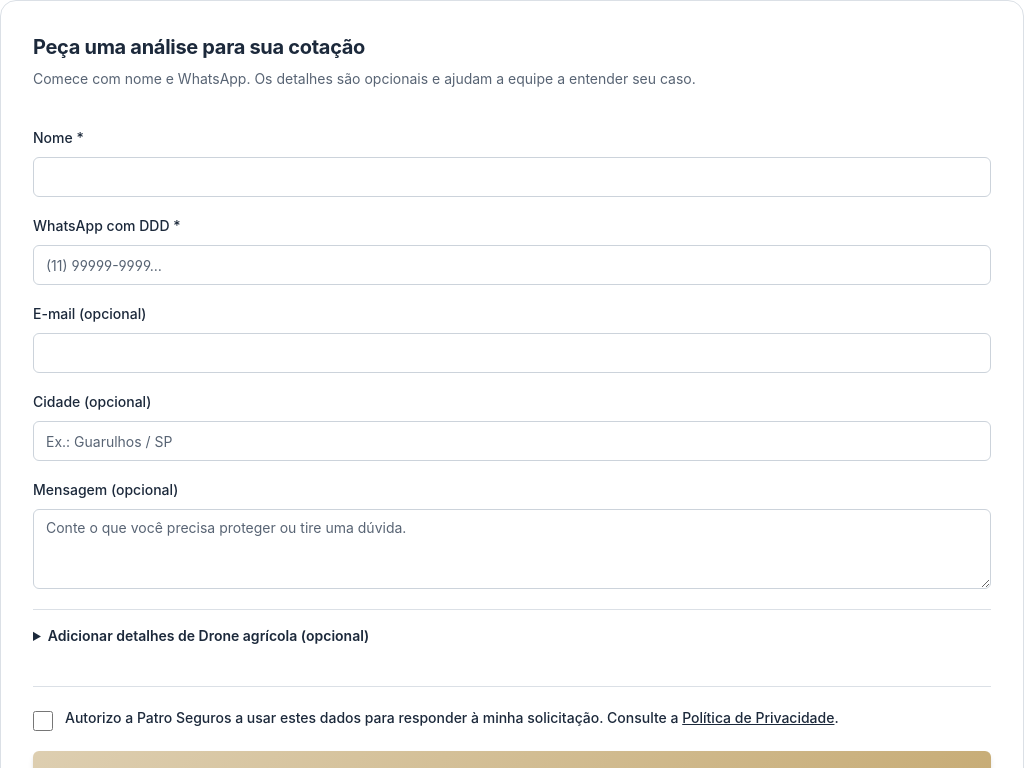
Test: Captação por produto › valida o e-mail opcional antes do envio
The width and height of the screenshot is (1024, 768).
Type "Maria Teste" into the field labelled "Nome *" at (512, 177), box [33,157,991,197]
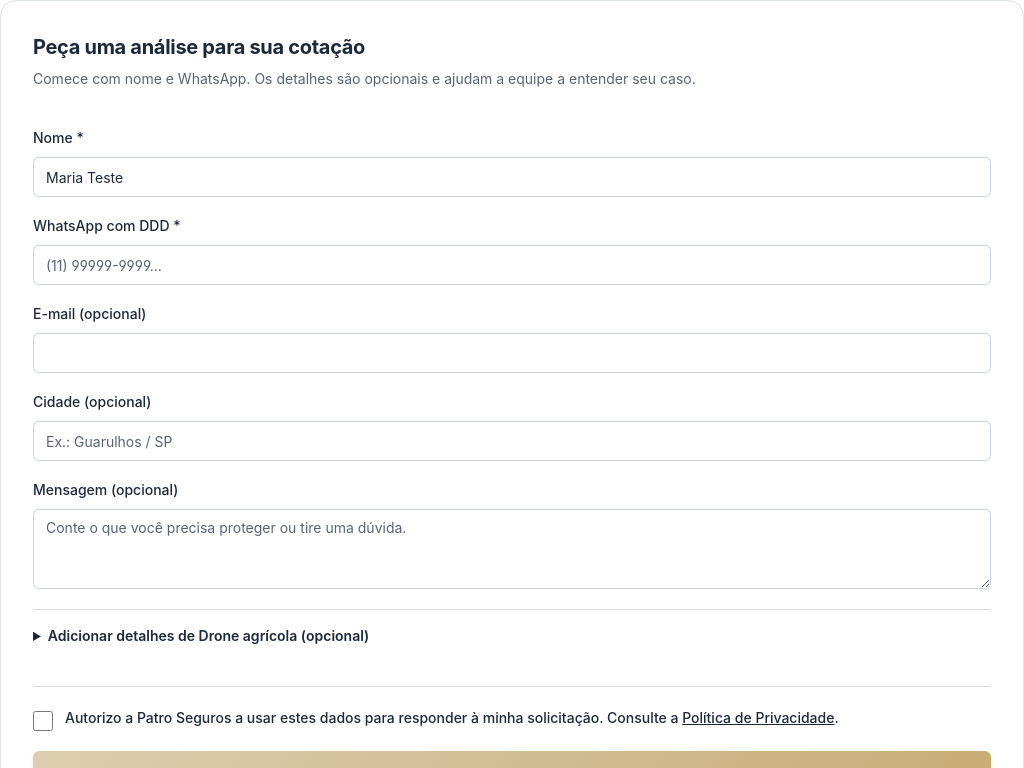
Type "11999999999" into the field labelled "WhatsApp com DDD *" at (512, 265), box [33,245,991,285]
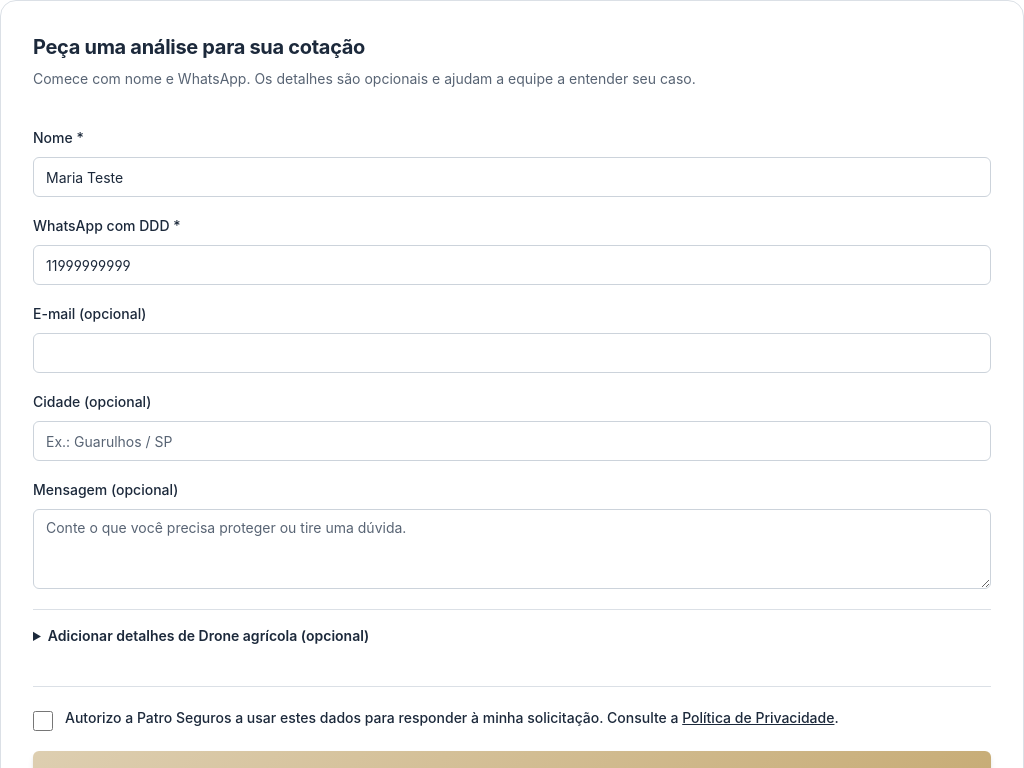
Click the checkbox at (43, 721), box [33,711,53,731]
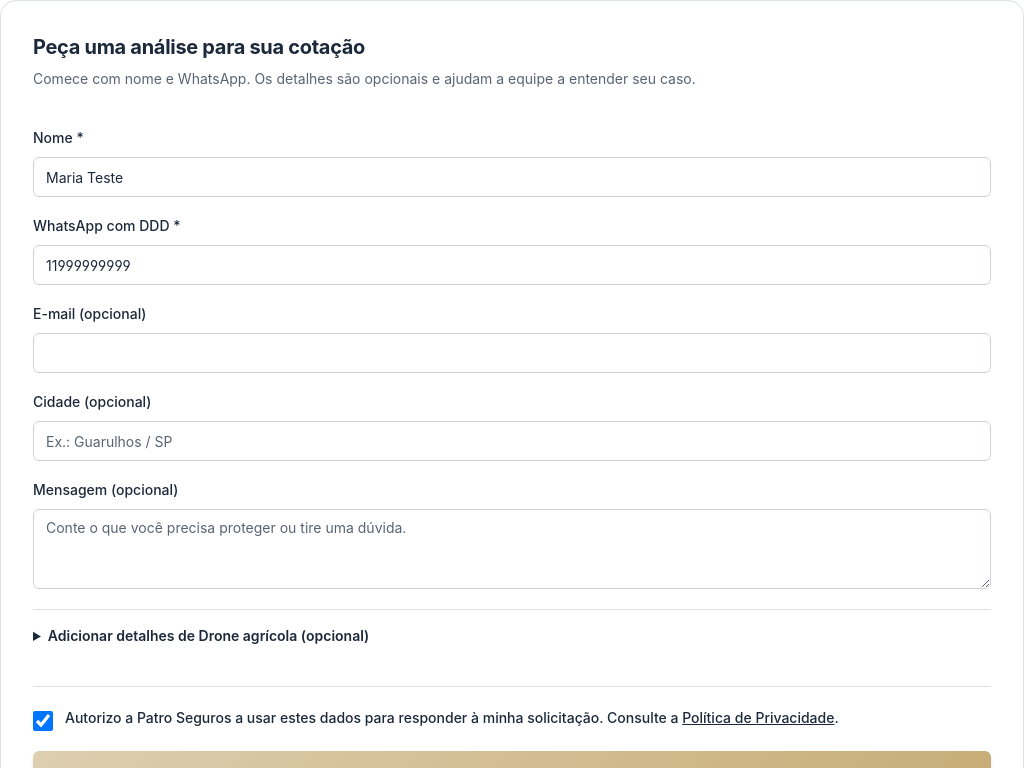
Type "email-invalido" into the field labelled "E-mail (opcional)" at (512, 353), box [33,333,991,373]
(page scrolled)
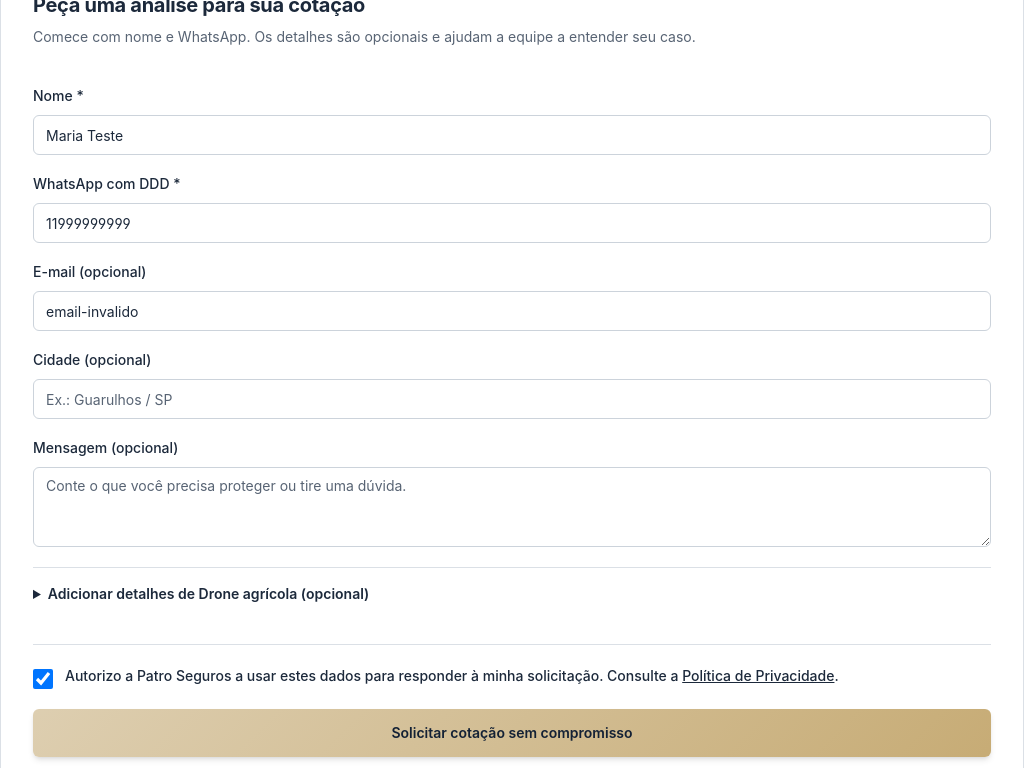
Submit the form
(page scrolled)
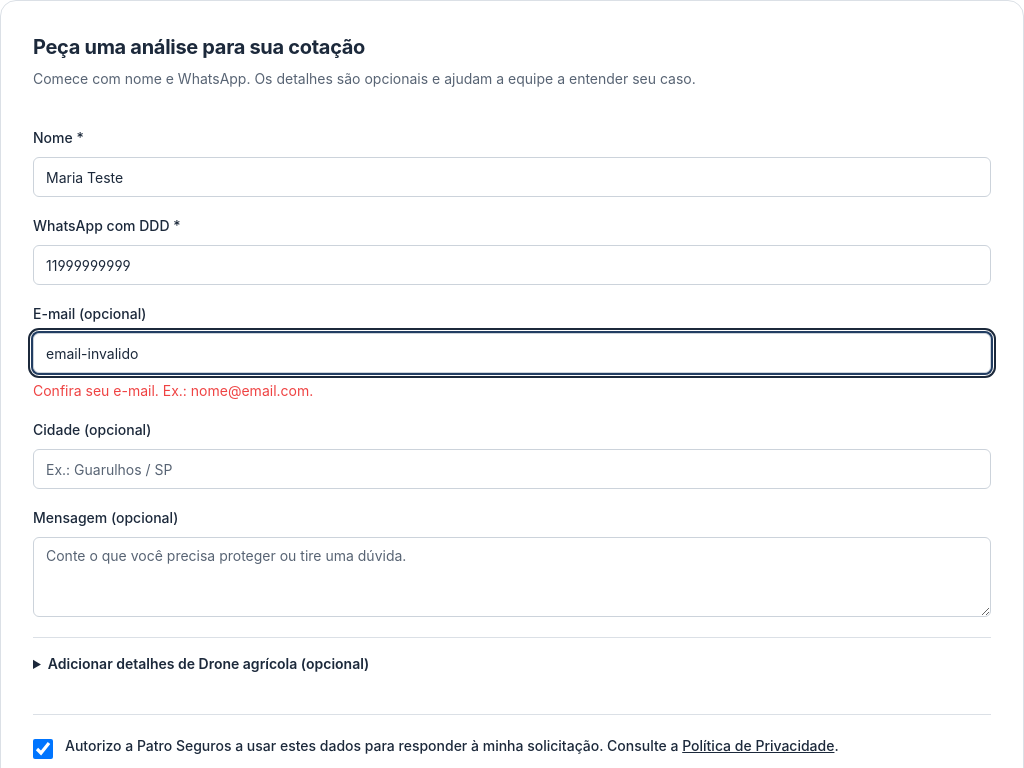
Check: the field labelled "E-mail (opcional)" is marked as invalid, box [33,333,991,373]
